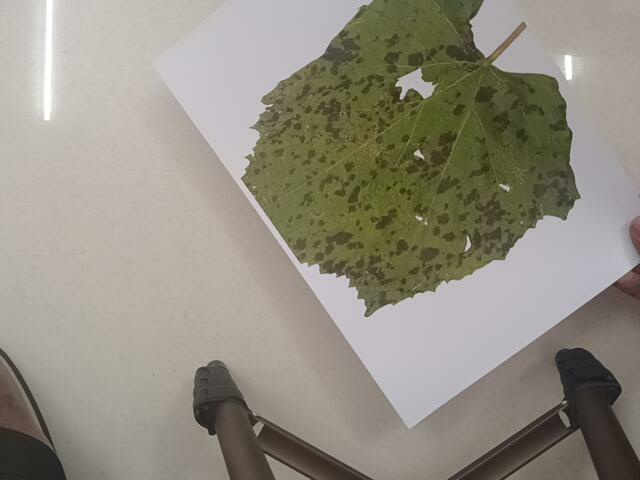Grape_Blight_Leaf: (234, 12, 597, 308)
